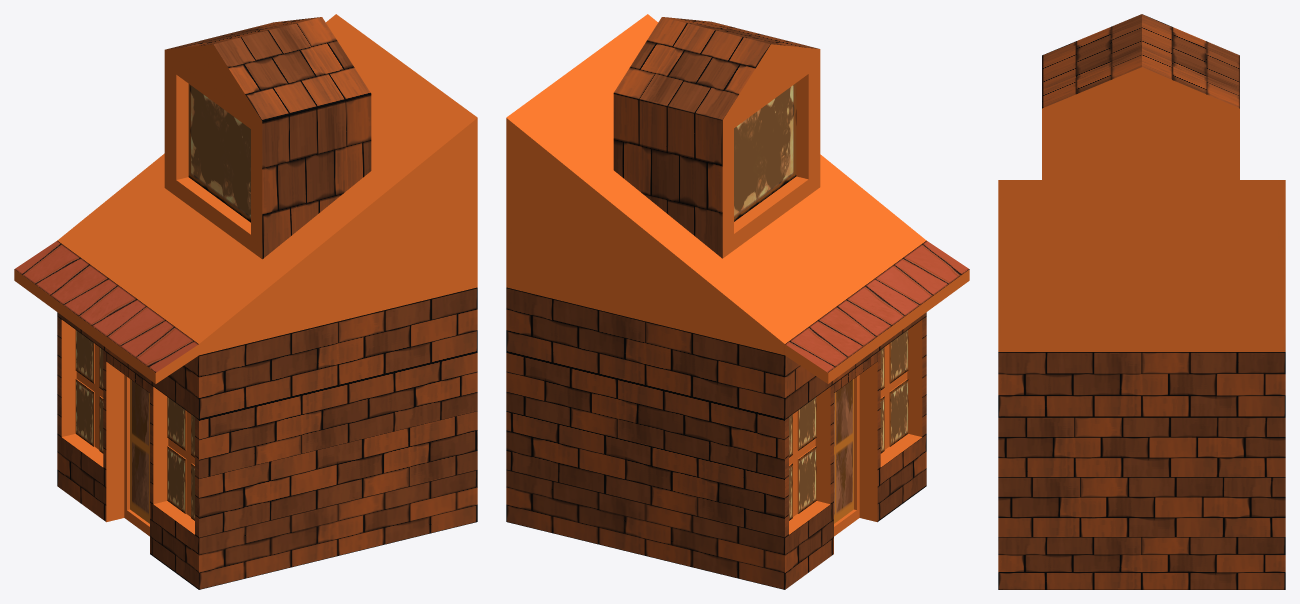
File: Depaul_Building_6.fbx
3 renders of one model, left to right at view 1: azimuth 30°, elevation 25°; view 2: azimuth 150°, elevation 25°; view 3: azimuth 270°, elevation 25°, orthographic.
Visible parts, largest first — view 1: Object002; view 2: Object002; view 3: Object002.
Part boxes in pixels (left/top/right/bottom): Object002: left=14, top=14, right=477, bottom=589; Object002: left=506, top=14, right=969, bottom=589; Object002: left=998, top=14, right=1285, bottom=589.
Bounding box in the file's own units: 199 × 279 × 151.
